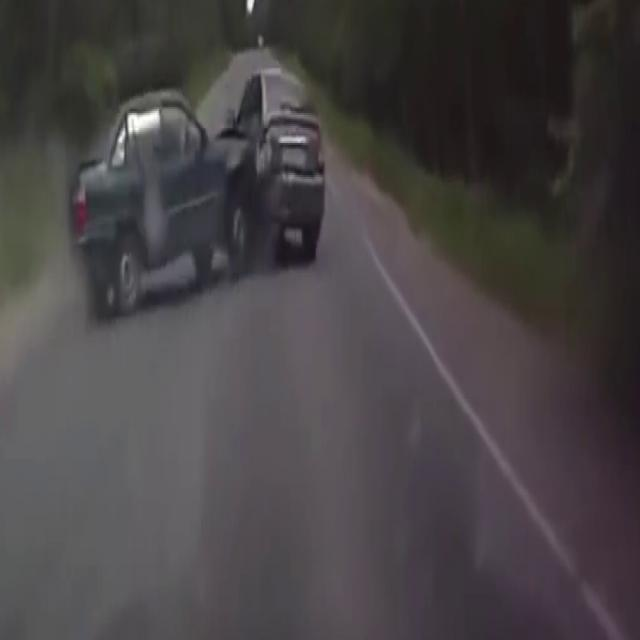accident: (77, 33, 351, 339)
